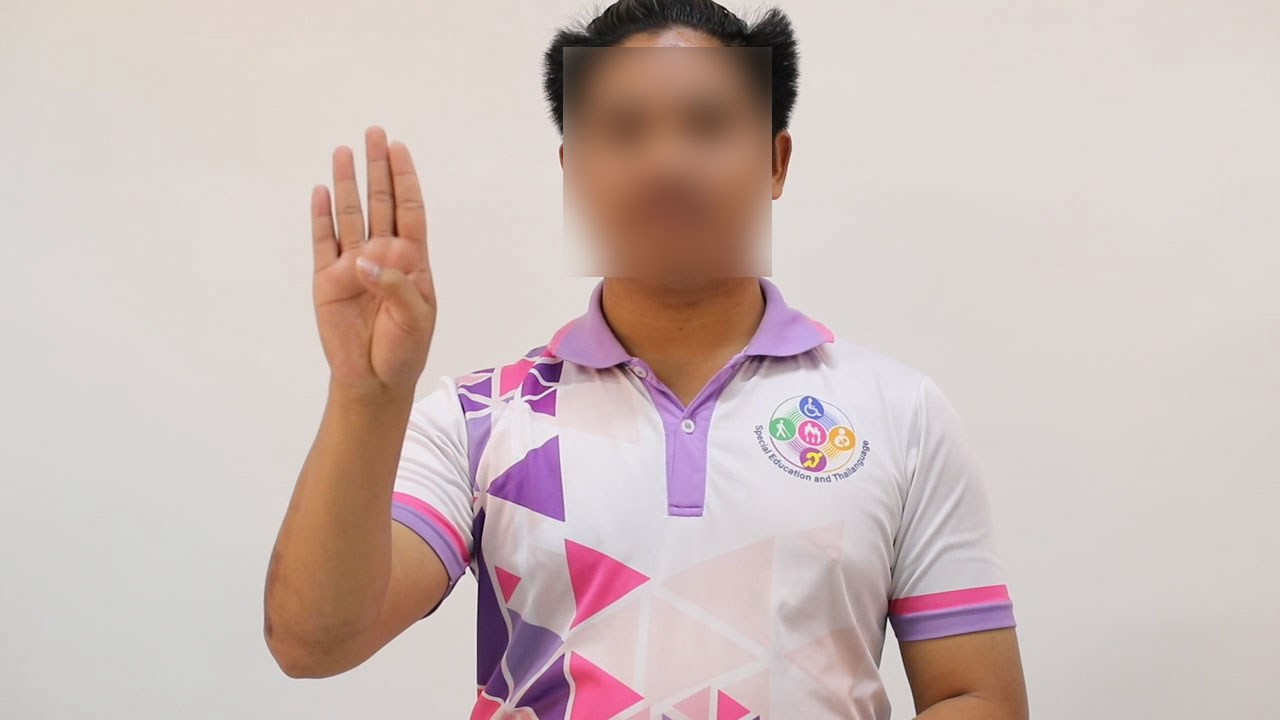bor: (290, 106, 457, 428)
